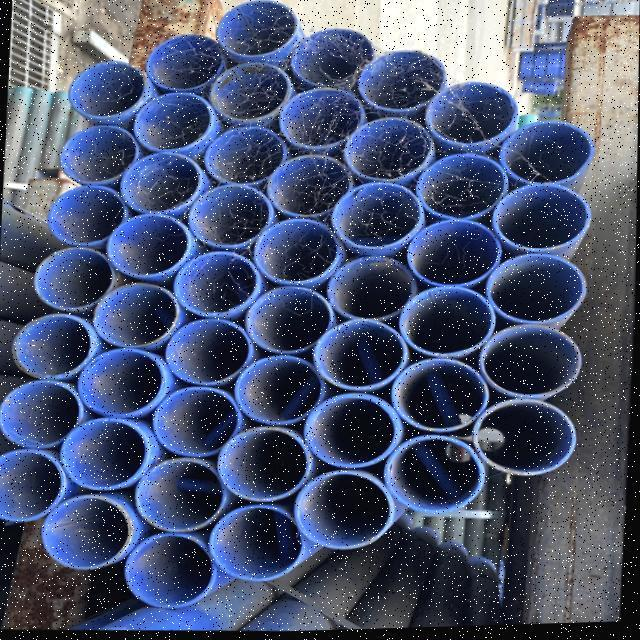pipe: (292, 468, 394, 553), (487, 184, 590, 264), (478, 326, 581, 401), (475, 404, 575, 481), (423, 82, 517, 162), (485, 255, 585, 329), (300, 395, 398, 470), (39, 492, 132, 571), (214, 426, 308, 504), (207, 507, 301, 585), (122, 531, 216, 609), (387, 441, 483, 515), (57, 416, 153, 490), (149, 379, 238, 458), (394, 287, 493, 358), (310, 319, 406, 391), (402, 219, 500, 288), (230, 353, 320, 428), (133, 457, 223, 532), (266, 154, 360, 225), (74, 345, 164, 418), (397, 361, 486, 434), (248, 217, 342, 286), (498, 122, 592, 190), (168, 248, 259, 317), (240, 286, 330, 355), (413, 154, 508, 219), (327, 180, 420, 246), (322, 257, 415, 323), (99, 213, 190, 280), (160, 317, 250, 384), (90, 281, 179, 348), (6, 312, 93, 380), (339, 118, 430, 183), (352, 50, 443, 113), (274, 88, 362, 153), (184, 182, 270, 248), (111, 151, 197, 217), (285, 28, 372, 93), (0, 377, 79, 448), (202, 61, 291, 123), (130, 91, 216, 155), (42, 181, 126, 246), (199, 122, 285, 185), (30, 245, 110, 312), (210, 0, 299, 60), (140, 33, 227, 92), (64, 58, 145, 120), (54, 124, 137, 184), (0, 449, 61, 523)
